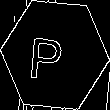P_N: (36, 28, 74, 82)
